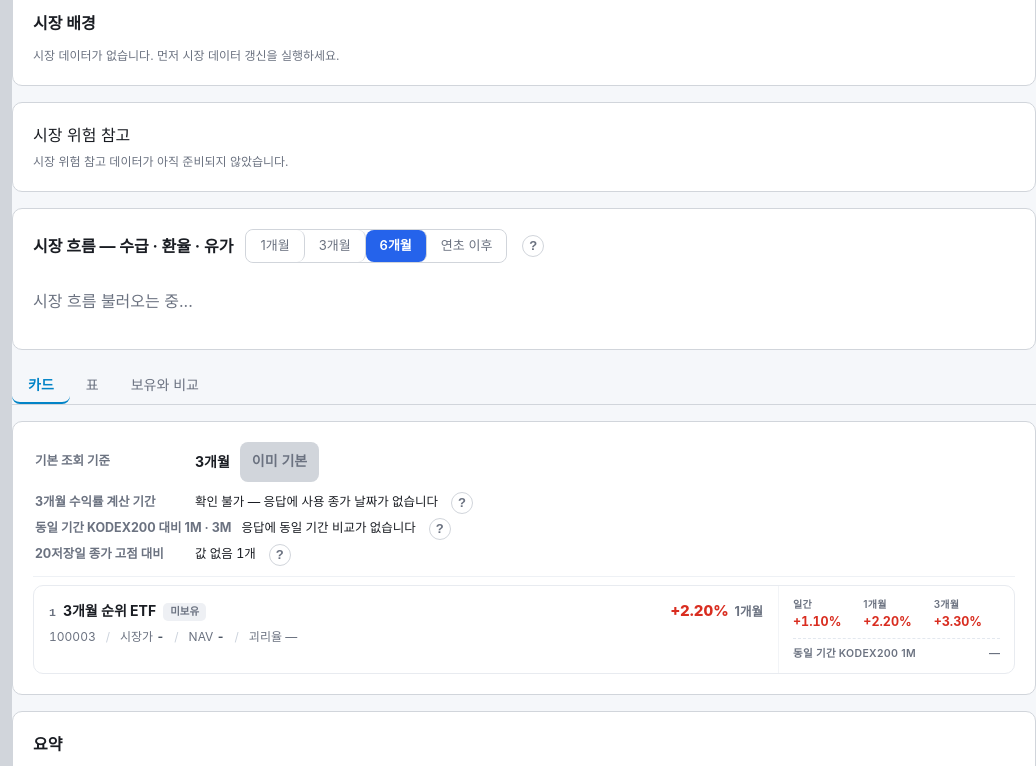
it: 명시 저장 · 임시 변경 (POC5-26 설계 §2 · §3 · 판정 §2) › 카드 보기에도 같은 줄 · 표에서 고른 기준을 카드 보기에서 저장할 수 있다
(page scrolled)
Expected: the element with test id "market-basis-default" shows "기본 조회 기준", 35,453 -> 110,468
Click the tab "표". click: (92, 384)
box: 70,366 -> 115,404
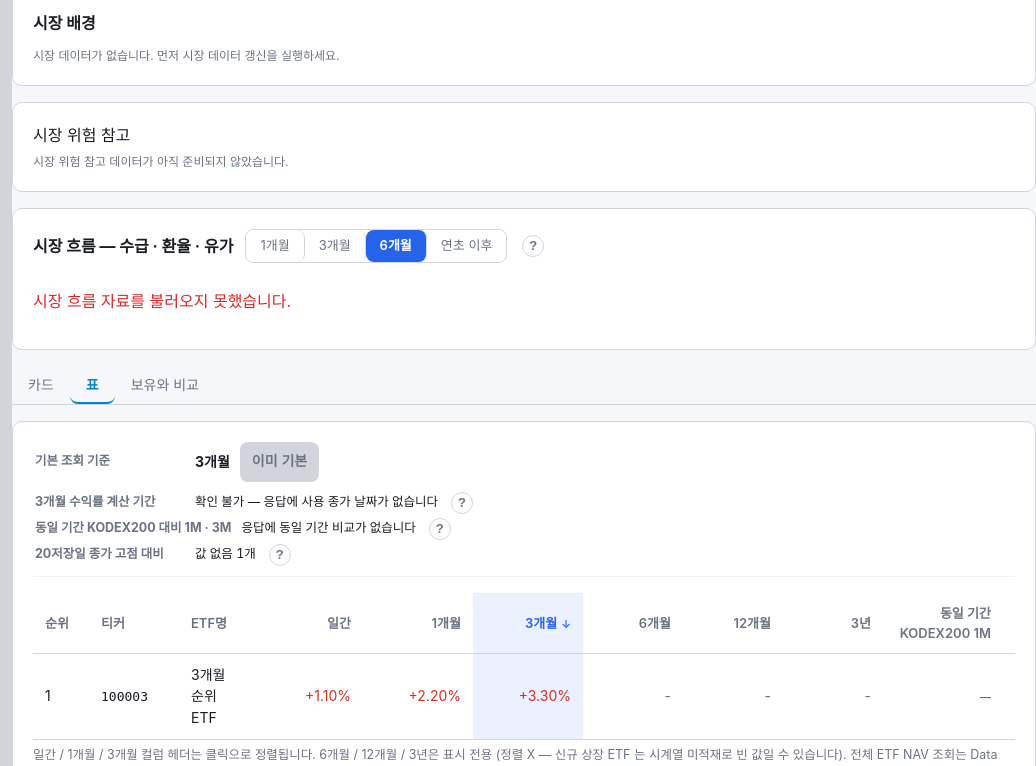
Click the column heading "1개월". click: (418, 623)
box: 363,592 -> 473,653
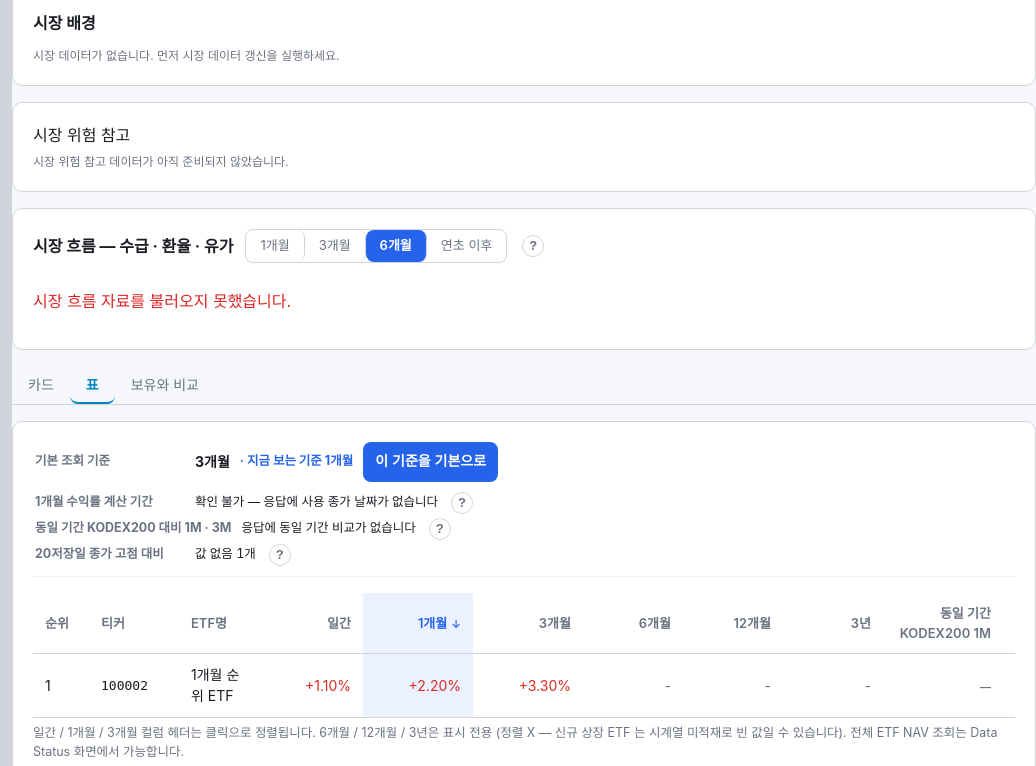
Click the tab "카드". click: (41, 384)
box: 12,366 -> 70,404
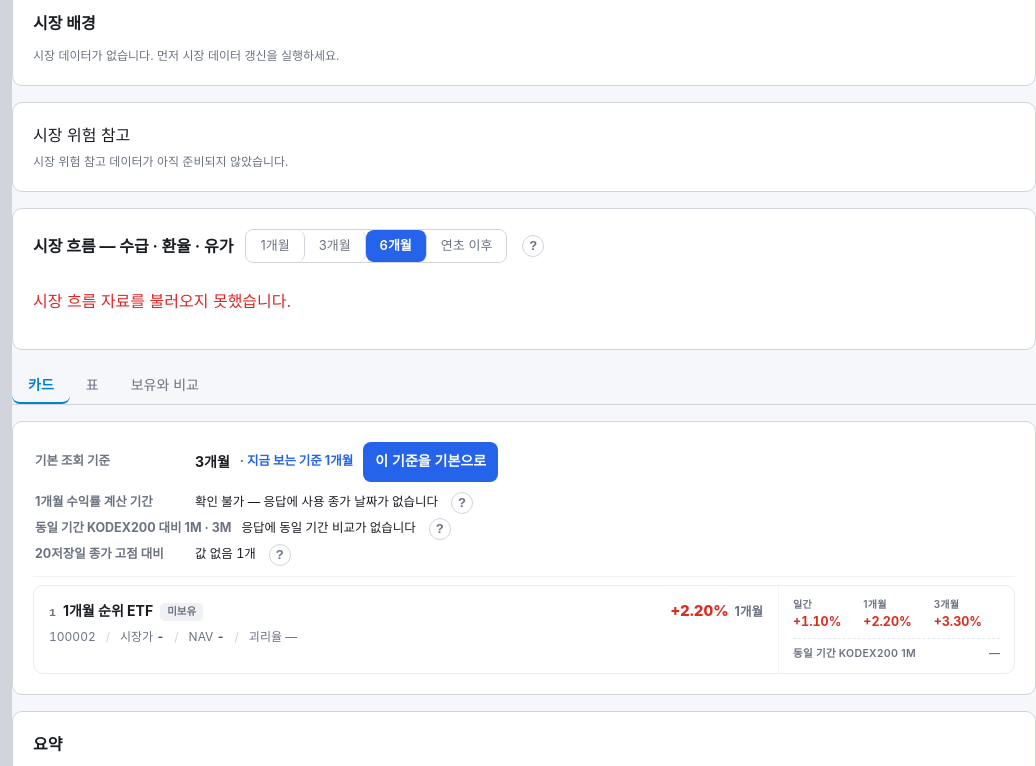
Now the element with test id "market-basis-default" shows "· 지금 보는 기준 1개월", box 35,442 -> 498,482
Click the button "이 기준을 기본으로". click: (431, 462)
box: 363,442 -> 498,482
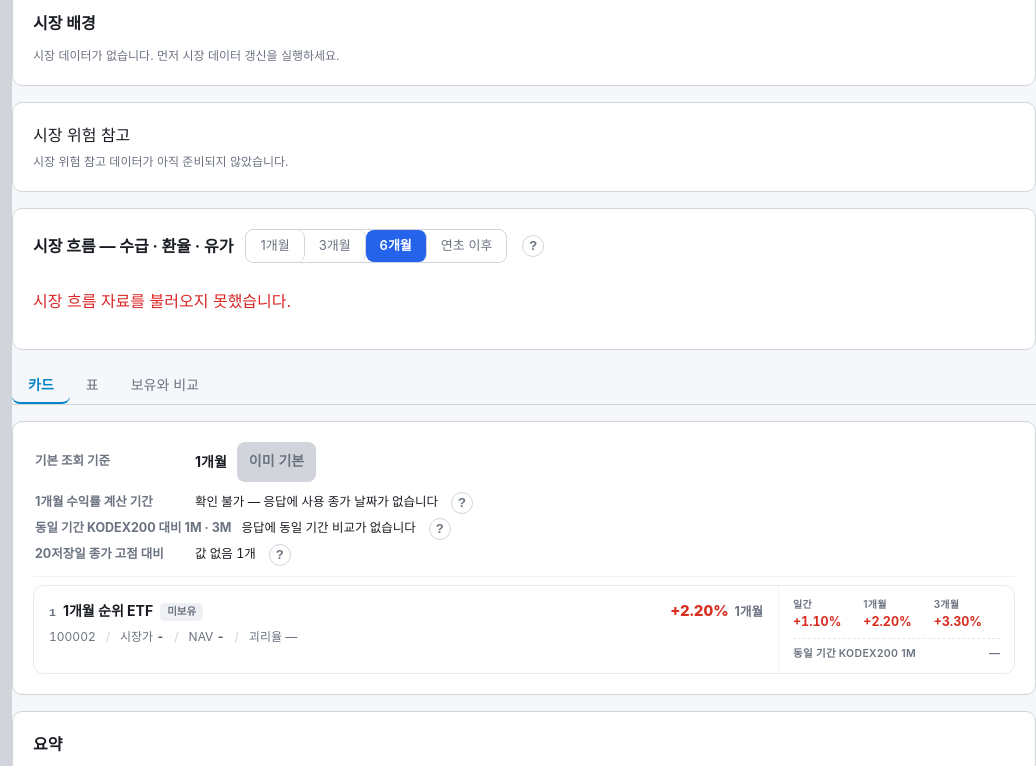
Now the button "이미 기본" is disabled, box 237,442 -> 316,482
